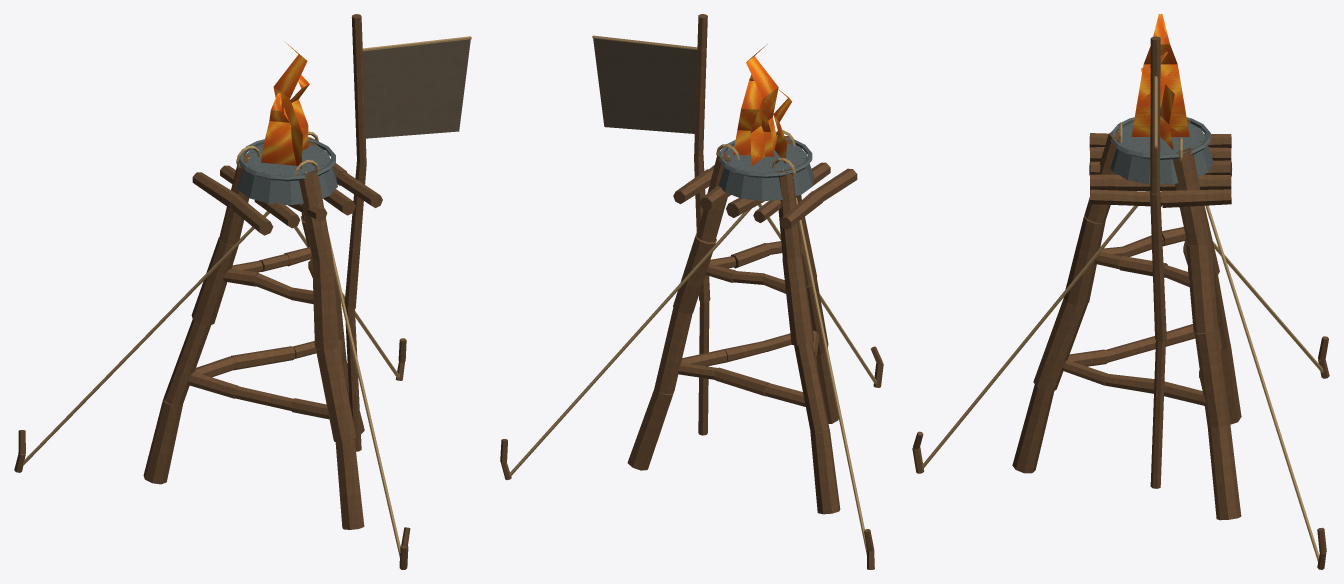
File: cs-014_signal_beacon_lit_active.obj
The picture shows the model from 3 angles, left to right: view 1: azimuth 30°, elevation 25°; view 2: azimuth 150°, elevation 25°; view 3: azimuth 270°, elevation 25°; orthographic projection. The views are drawn at different scales.
Parts seen in each view (by area): view 1: cs-014_signal_beacon_lit_active; view 2: cs-014_signal_beacon_lit_active; view 3: cs-014_signal_beacon_lit_active.
Boxes of the visible parts, x1,y1,x2,y2 form: cs-014_signal_beacon_lit_active: (14,14,471,569); cs-014_signal_beacon_lit_active: (500,14,883,569); cs-014_signal_beacon_lit_active: (912,14,1329,569).
Size of the model in its own units: 1.97 by 2.19 by 1.77.
5 materials, 5 textured.
